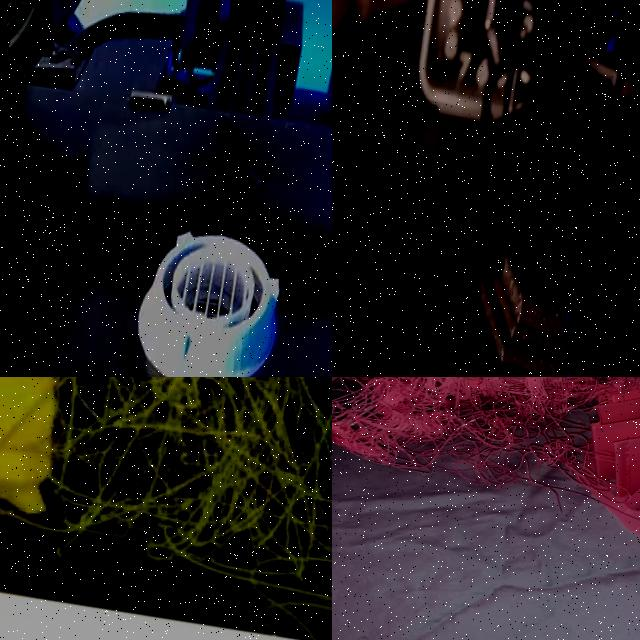spaghetti: (32, 377, 332, 640), (332, 377, 640, 529)
